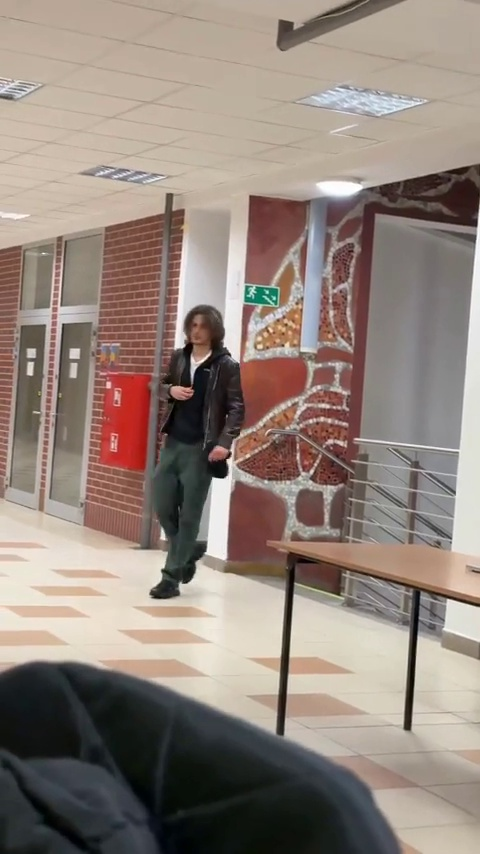no vest: (153, 304, 240, 595)
